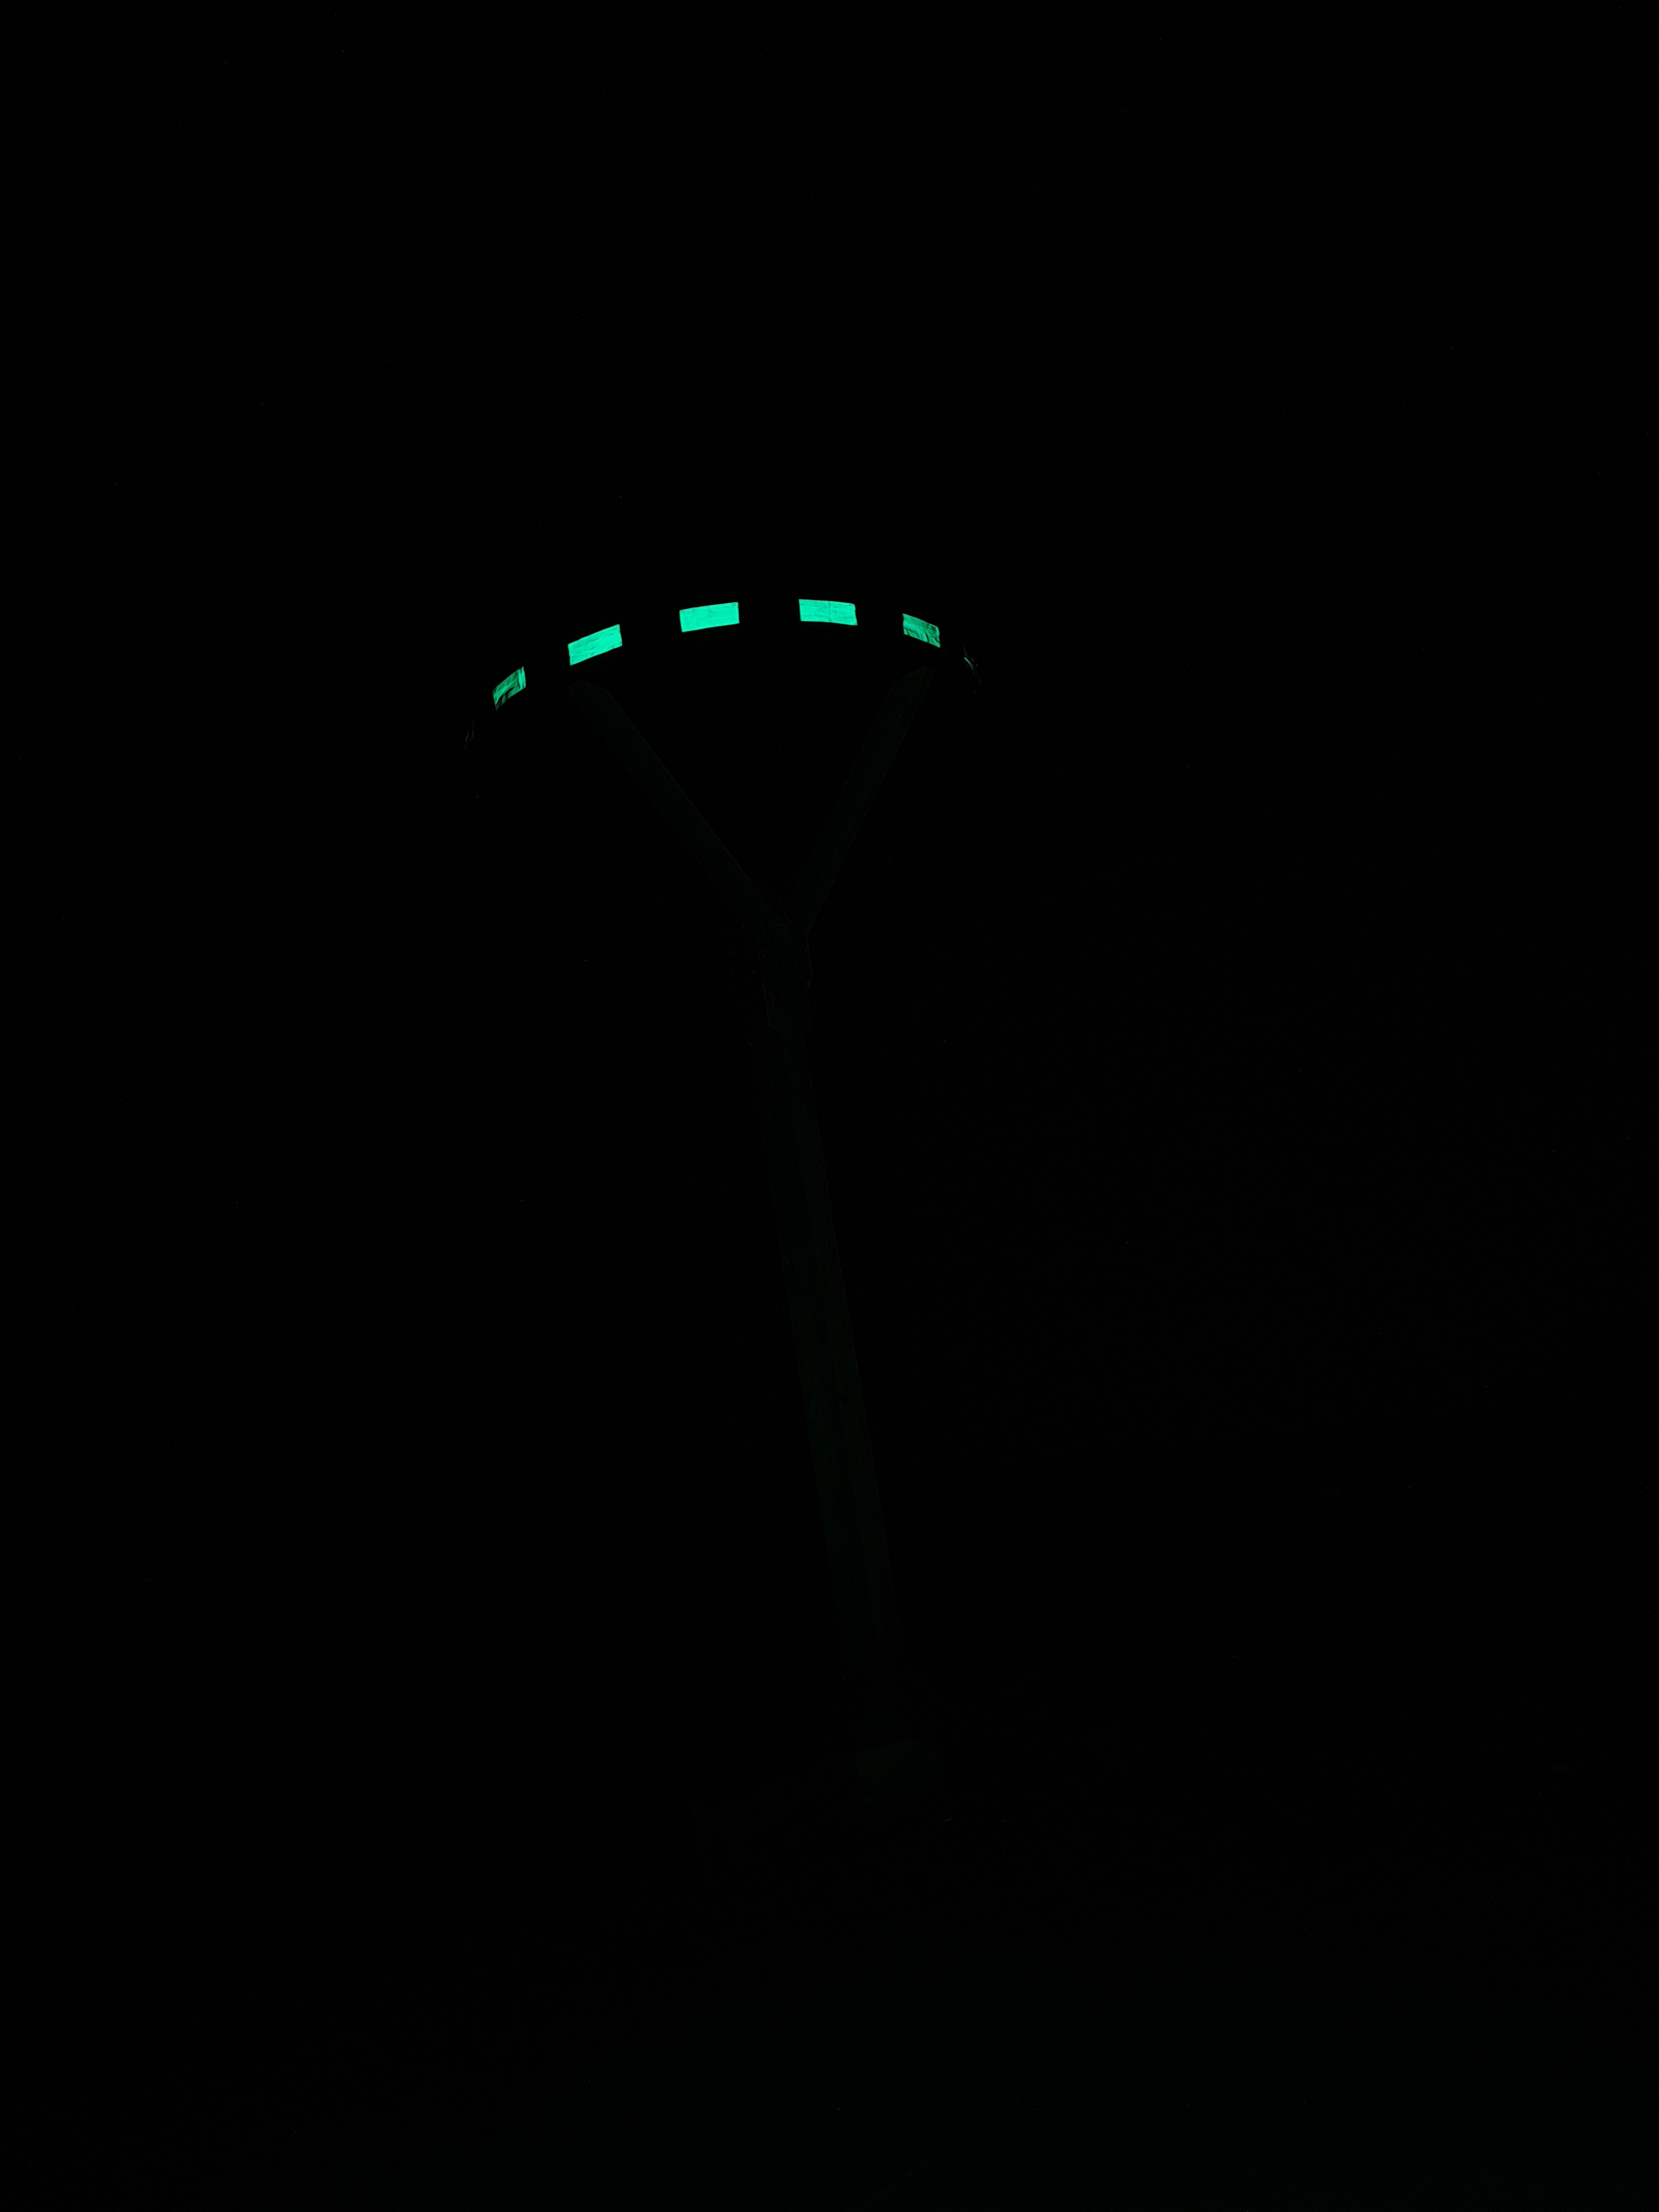hoop: (490, 585, 943, 709)
